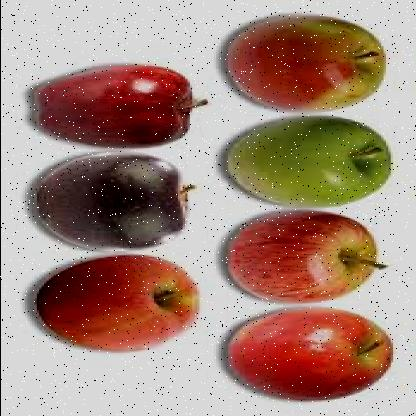apple: (227, 302, 392, 401), (38, 256, 206, 350), (227, 16, 387, 112), (220, 116, 394, 204), (224, 210, 380, 304), (33, 155, 189, 247), (31, 64, 191, 148)
